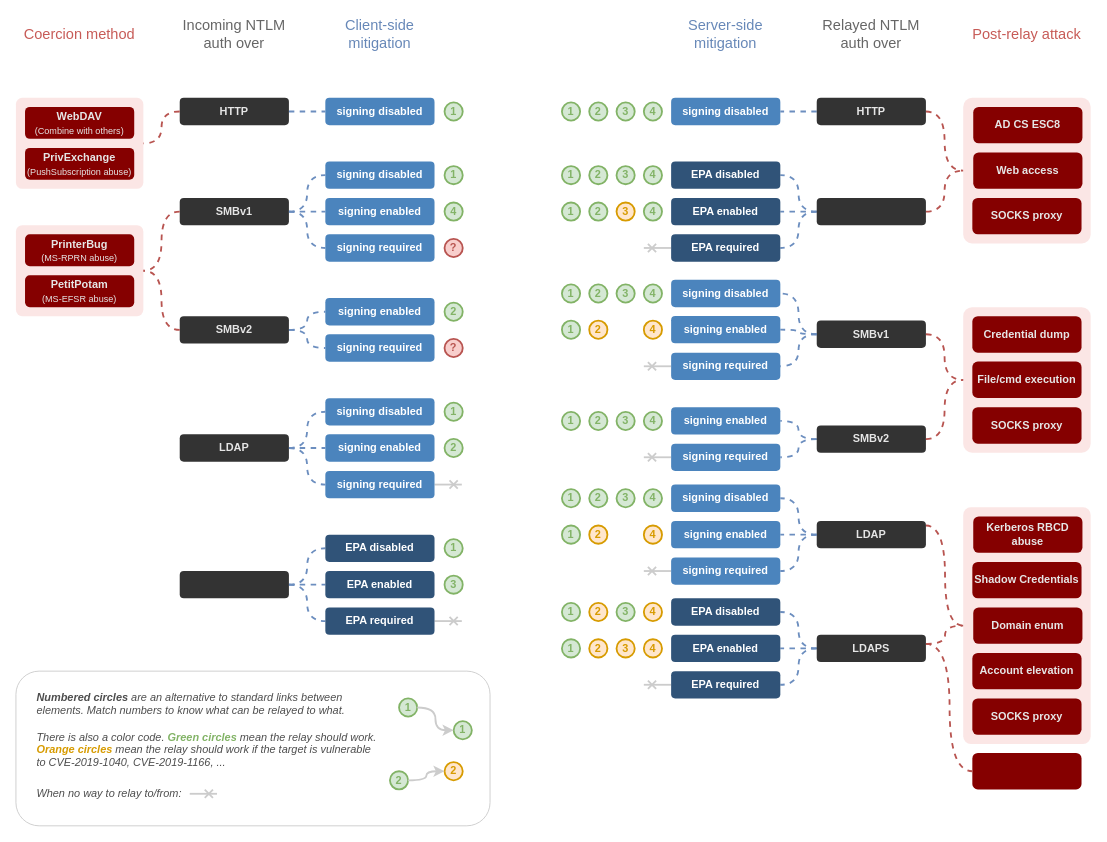
Image size: 1107x842. Some labels were removed from this diagram. Here are the shapes that lost their labels. From the top down, the centre of each, then its label:
At point 870,211: "HTTPS".
At point 233,584: "LDAPS or HTTPS".
At point 1026,771: "Account creation".
